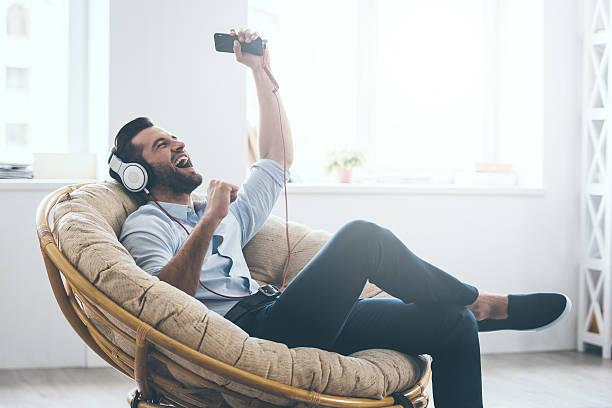headphone: (99, 122, 167, 198)
